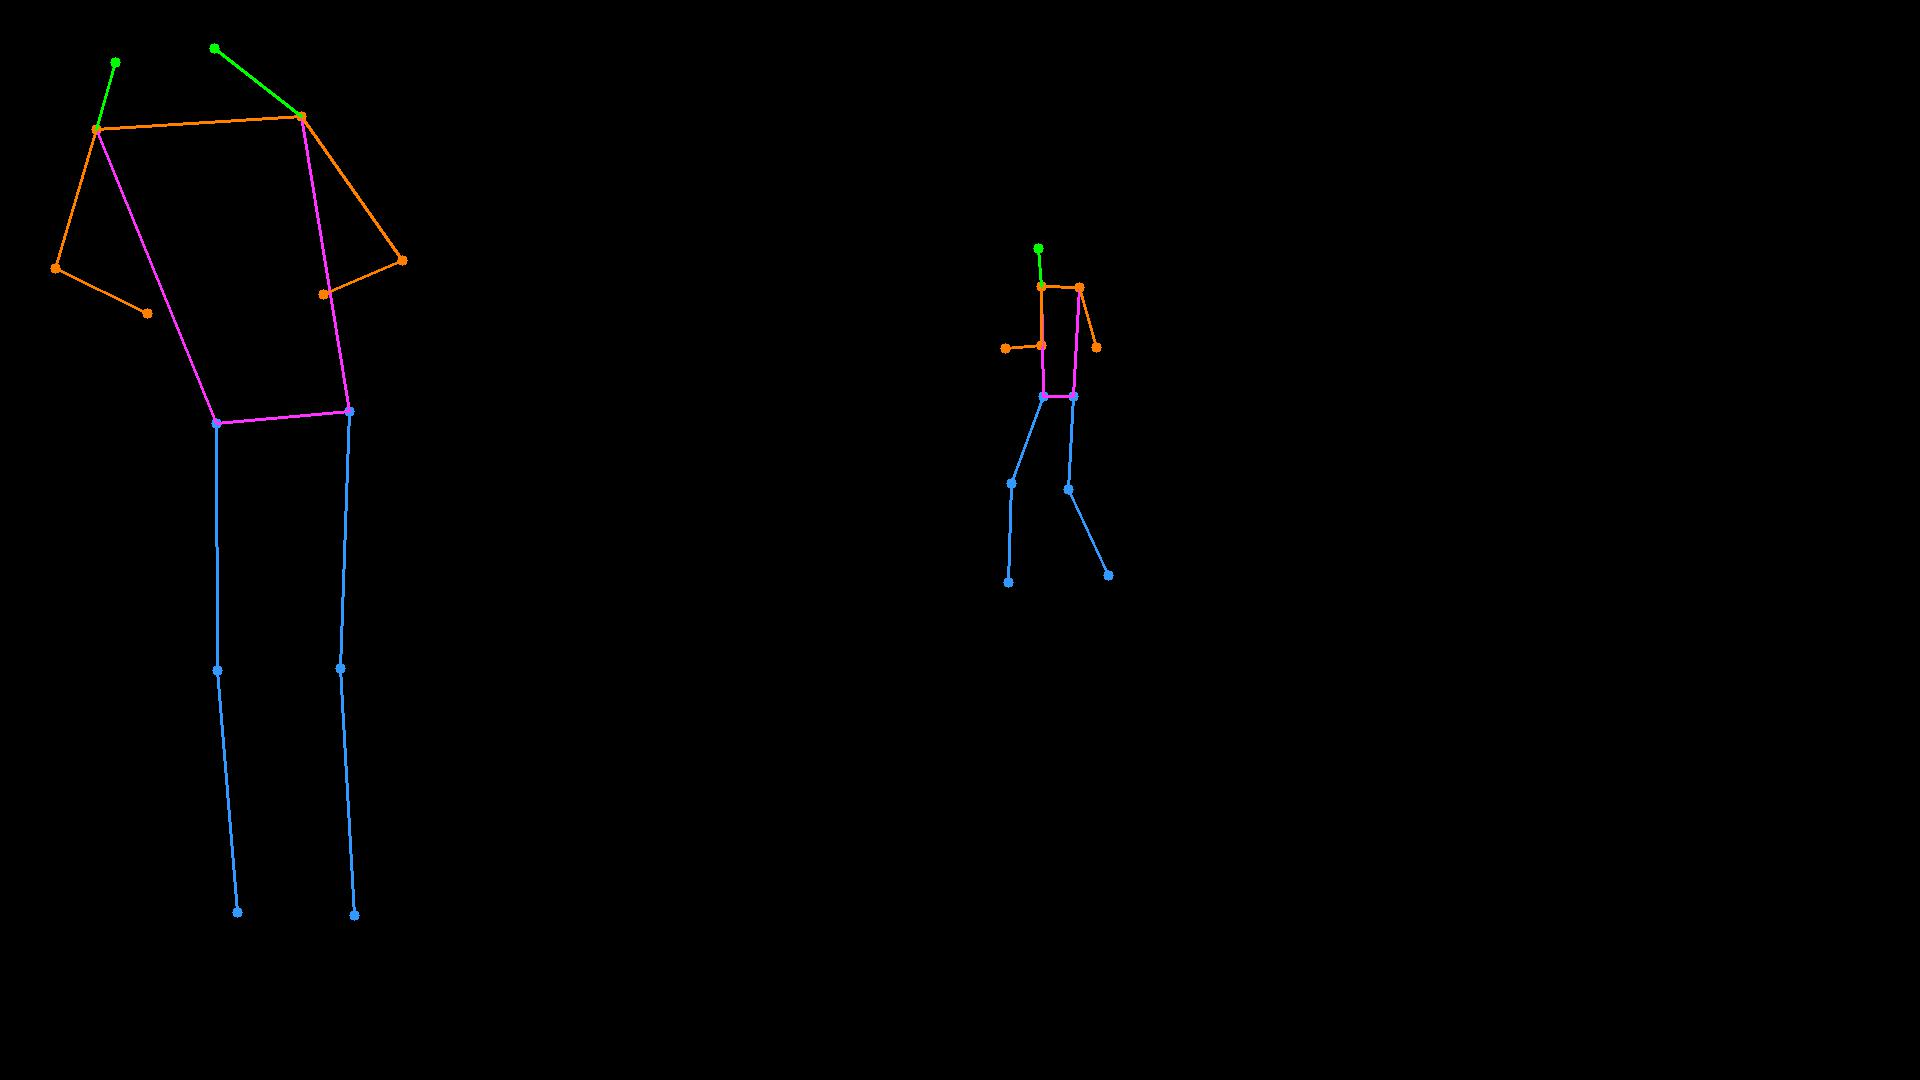normal: (26, 3, 425, 942), (956, 211, 1141, 629)
